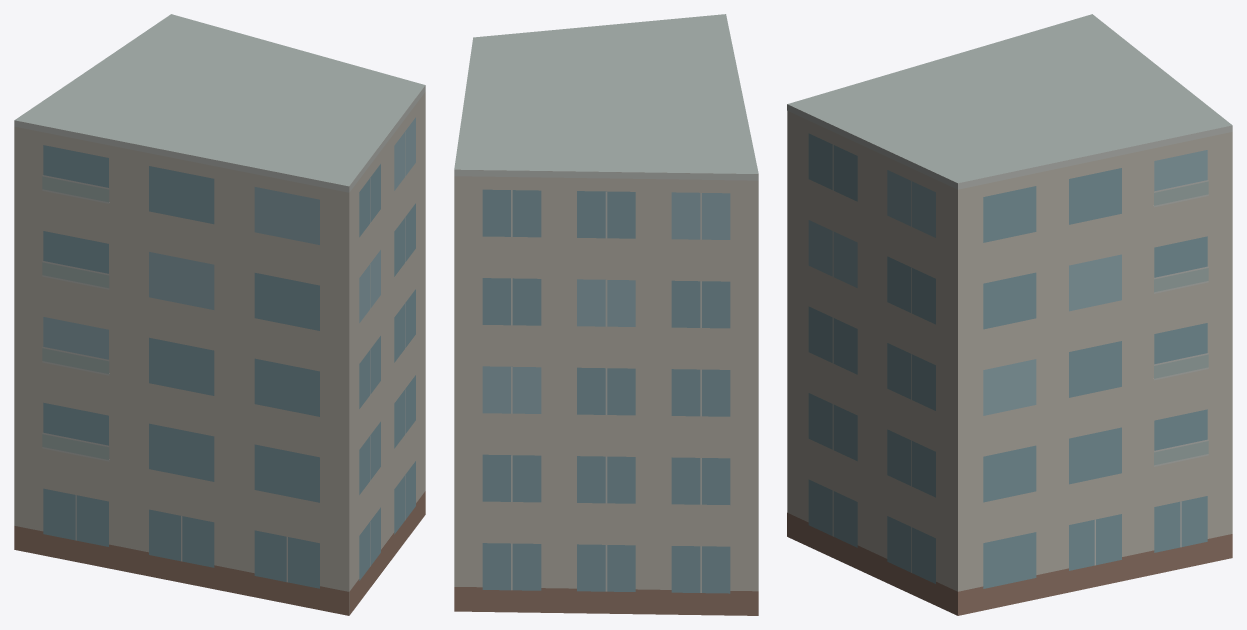
Rendered from survey-upis-32711836.glb.
3 renders of one model, left to right at view 1: azimuth 30°, elevation 25°; view 2: azimuth 150°, elevation 25°; view 3: azimuth 270°, elevation 25°, orthographic. The views are drawn at different scales.
Parts seen in each view (by area): view 1: survey-upis-32711836.tmp; view 2: survey-upis-32711836.tmp; view 3: survey-upis-32711836.tmp.
Part boxes in pixels (x1,y1,x2,y2): survey-upis-32711836.tmp: (14, 14, 425, 615); survey-upis-32711836.tmp: (454, 14, 758, 615); survey-upis-32711836.tmp: (787, 14, 1232, 615).
Size of the model in its own units: 13.86 by 16.5 by 15.41.
